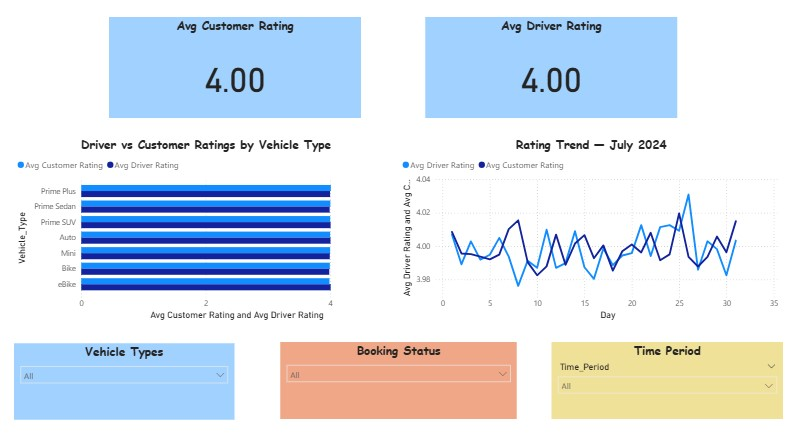

Layout of this report page (visuals, bound fields, positions):
{"tool":"powerbi","page":{"name":"Ratings","canvas":[1280,720],"ordinal":4},"visuals":[{"type":"card","title":"Avg Customer Rating","fields":{"Values":["cleaned_bookings.Avg Customer Rating"]},"box":[175.6,31.6,403.4,161.9],"z":0},{"type":"card","title":"Avg Driver Rating","fields":{"Values":["cleaned_bookings.Avg Driver Rating"]},"box":[682,31.6,403.4,161.9],"z":1000},{"type":"clusteredBarChart","title":"Driver vs Customer Ratings by Vehicle Type","fields":{"Category":["cleaned_bookings.Vehicle_Type"],"Y":["cleaned_bookings.Avg Customer Rating","cleaned_bookings.Avg Driver Rating"]},"box":[24.7,222.3,614.8,300.5],"z":2000},{"type":"lineChart","title":"Rating Trend — July 2024","fields":{"Category":["cleaned_bookings.Day"],"Y":["cleaned_bookings.Avg Driver Rating","cleaned_bookings.Avg Customer Rating"]},"box":[639.5,222.3,614.8,300.5],"z":3000},{"type":"slicer","title":"Vehicle Types","fields":{"Values":["cleaned_bookings.Vehicle_Type"]},"box":[24.7,553,352.7,122.1],"z":4000},{"type":"slicer","title":"Booking Status","fields":{"Values":["cleaned_bookings.Booking_Status"]},"box":[450.1,551.6,378.7,123.5],"z":4001},{"type":"slicer","title":"Time Period","fields":{"Values":["cleaned_bookings.Time_Period"]},"box":[883.7,551.6,370.5,123.5],"z":4002}]}

Visuals, with their boxes in screenshot pixels (x1, y1, x2, y2), scaled from the page's 1280x720 canvas onto the 797x445 screenshot:
"Avg Customer Rating" card: l=109, t=20, r=361, b=120
"Avg Driver Rating" card: l=425, t=20, r=676, b=120
"Driver vs Customer Ratings by Vehicle Type" clusteredBarChart: l=15, t=137, r=398, b=323
"Rating Trend — July 2024" lineChart: l=398, t=137, r=781, b=323
"Vehicle Types" slicer: l=15, t=342, r=235, b=417
"Booking Status" slicer: l=280, t=341, r=516, b=417
"Time Period" slicer: l=550, t=341, r=781, b=417
